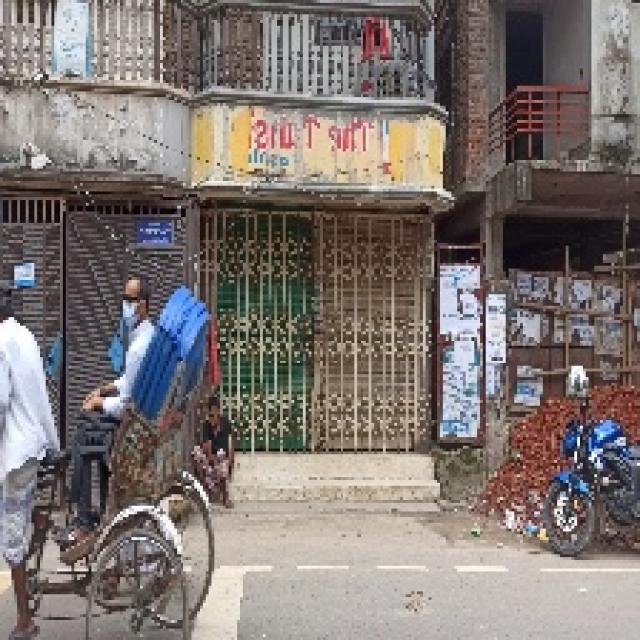bike: (539, 387, 639, 557)
rickshaw: (12, 262, 228, 623)
